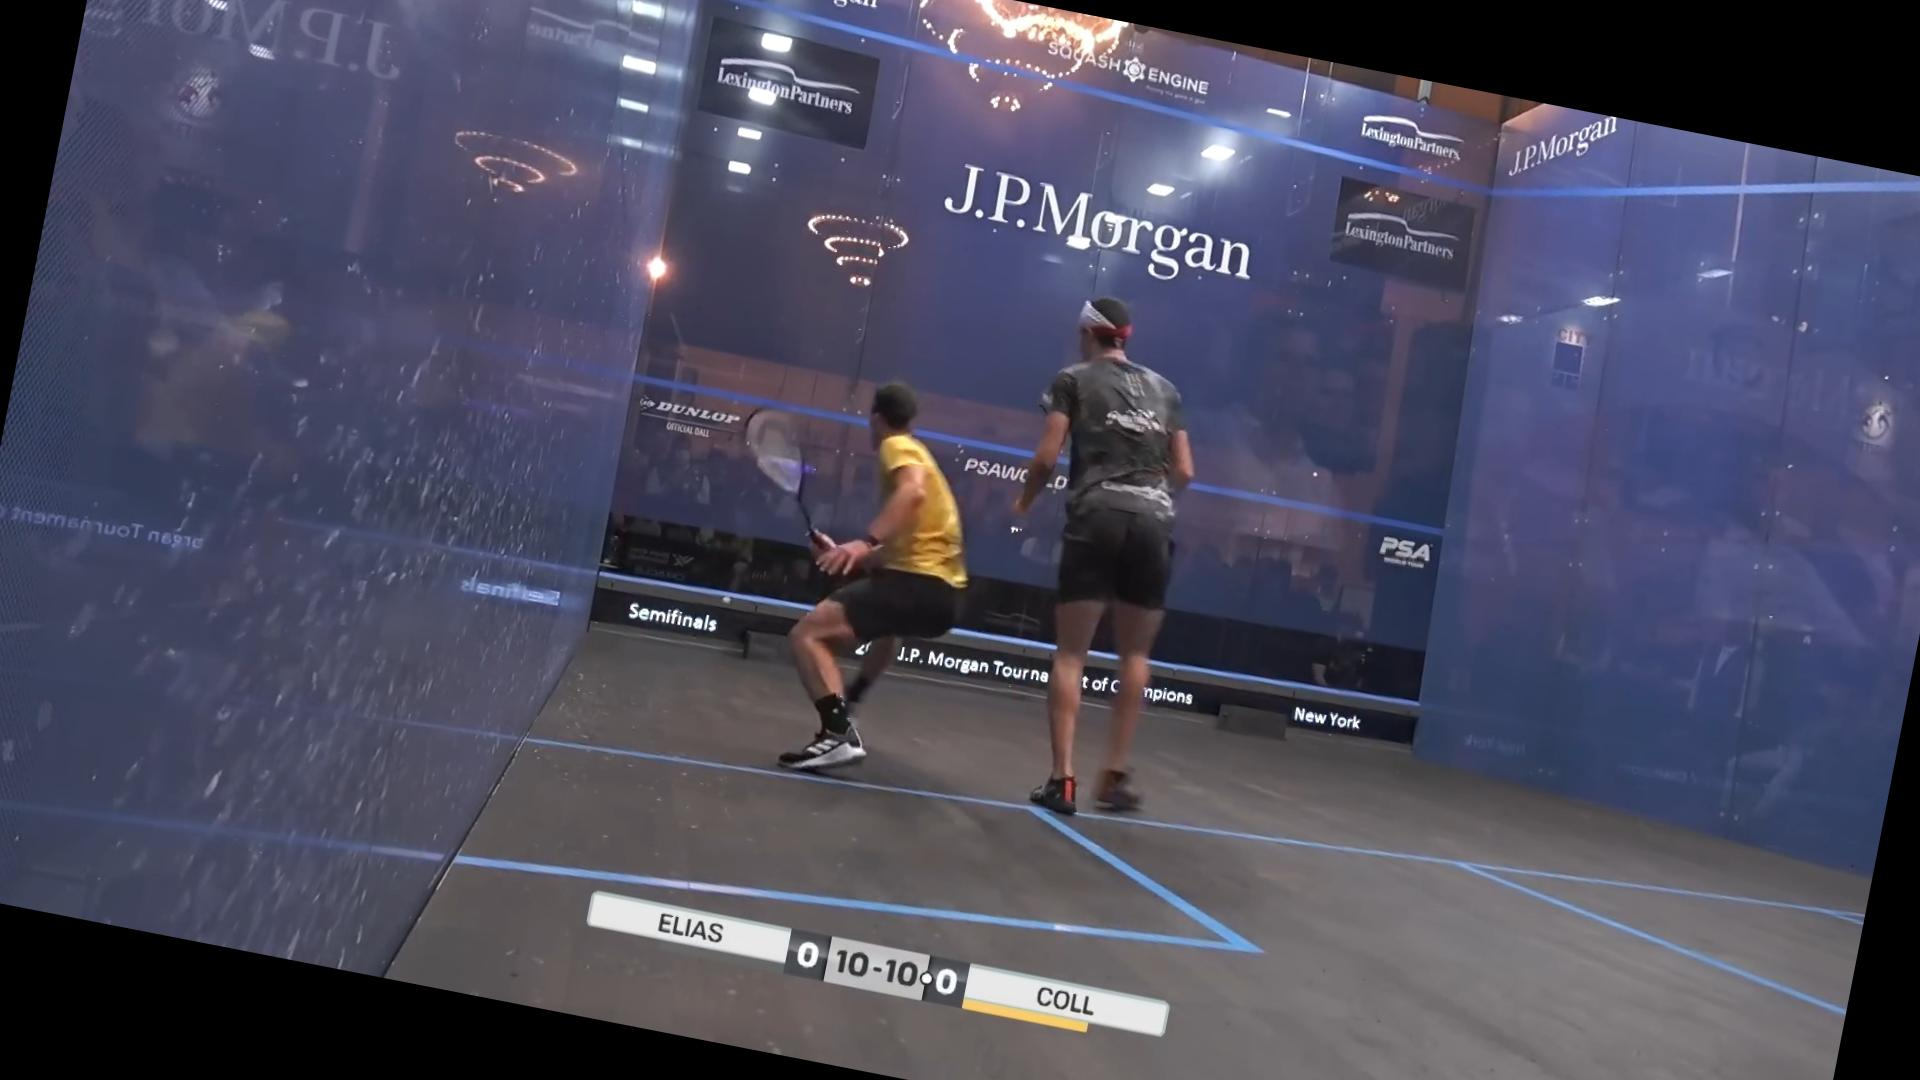Racket: (705, 385, 844, 543)
